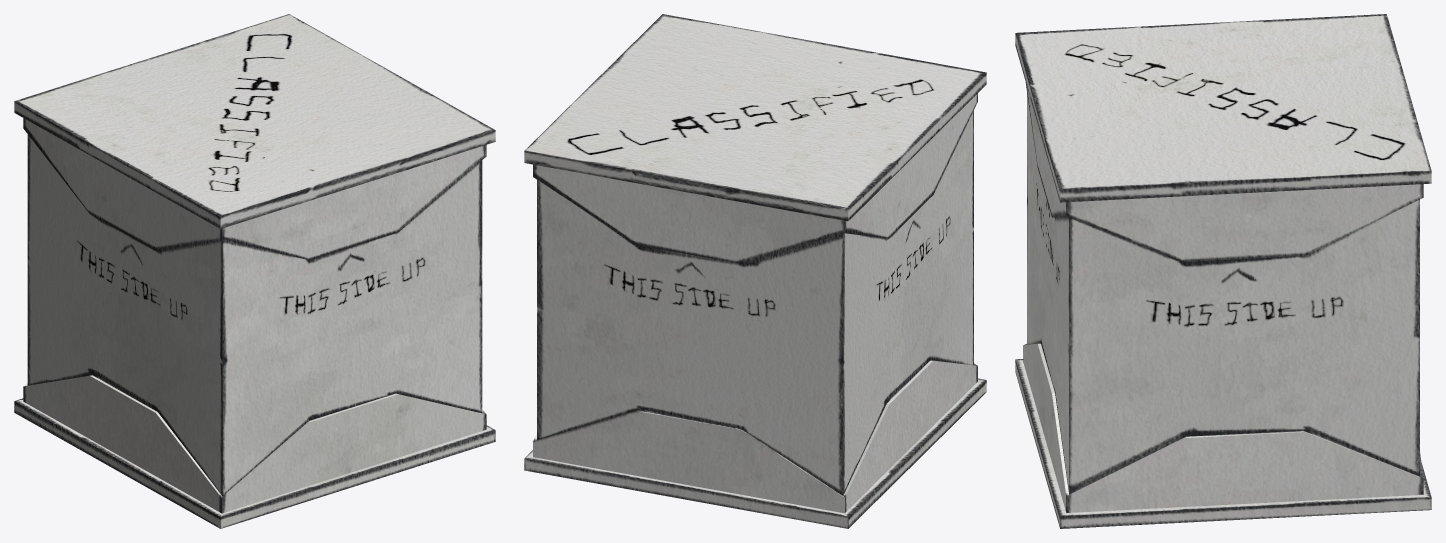
The model's file is Crate.fbx.
3 views of the same model, side by side, from view 1: azimuth 30°, elevation 25°; view 2: azimuth 150°, elevation 25°; view 3: azimuth 270°, elevation 25° (orthographic). The views are drawn at different scales.
Parts seen in each view (by area): view 1: Cube.009; view 2: Cube.009; view 3: Cube.009.
Boxes of the visible parts, x1,y1,x2,y2 form: Cube.009: (14, 14, 495, 528); Cube.009: (524, 14, 986, 528); Cube.009: (1015, 14, 1431, 528).
Size of the model in its own units: 223 by 200 by 223.
